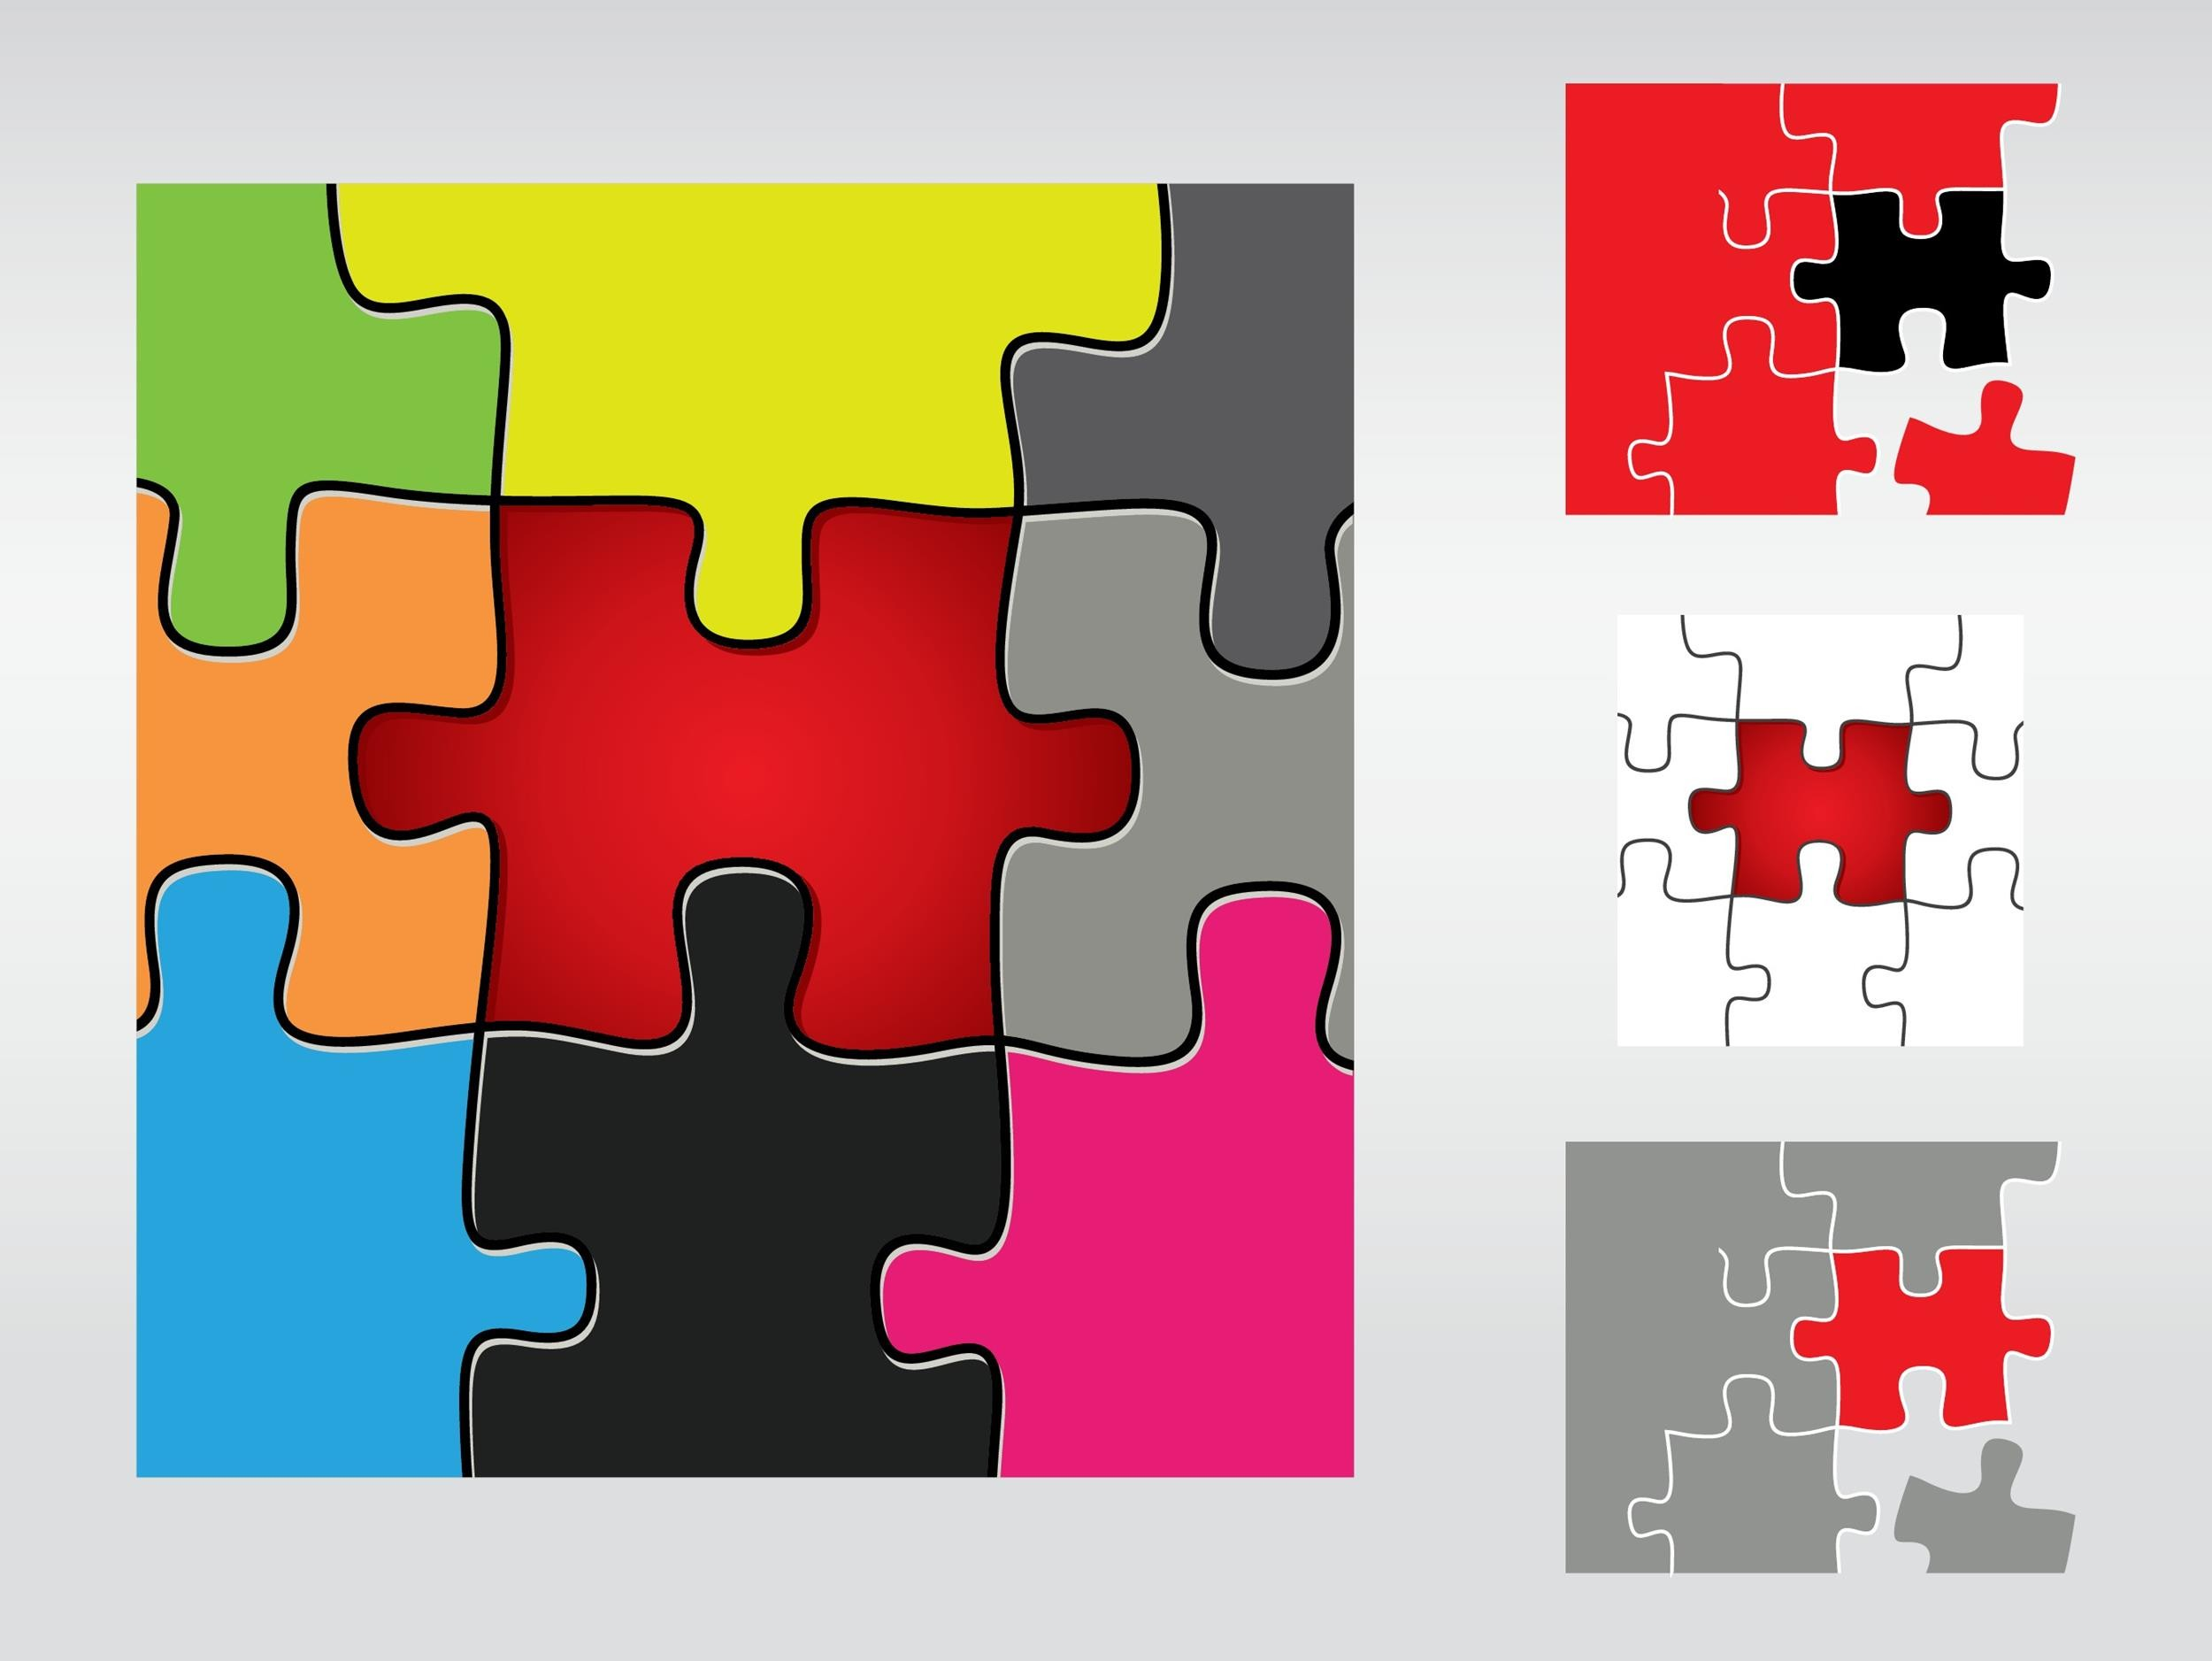puzzle piece: (354, 462, 1165, 1103)
